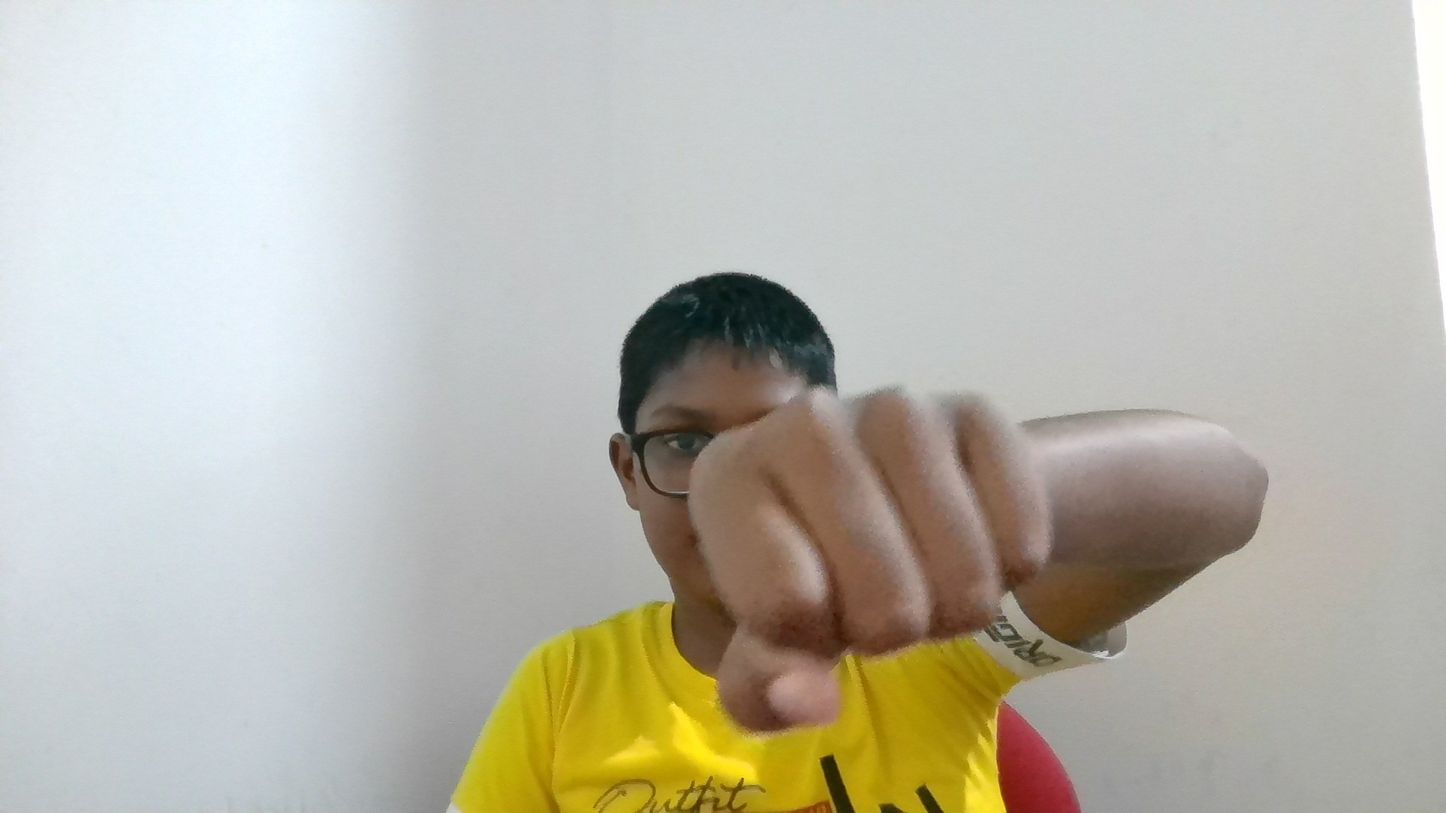Yes: (584, 318, 1309, 740)
